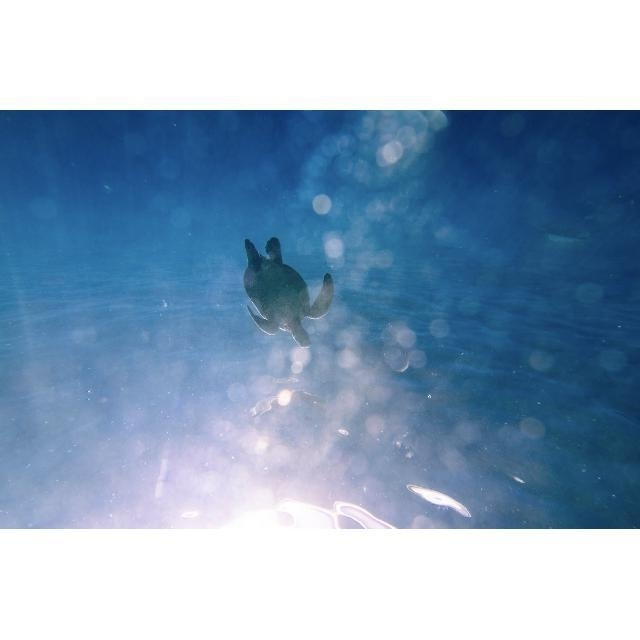turtle: (241, 237, 335, 348)
